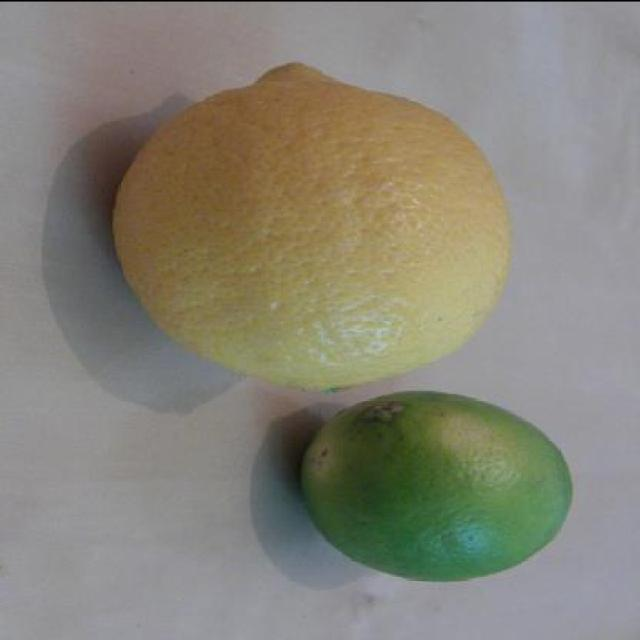Lemon: (109, 58, 508, 394), (298, 388, 576, 582)
